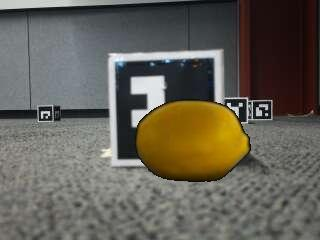lemon: (136, 102, 249, 181)
